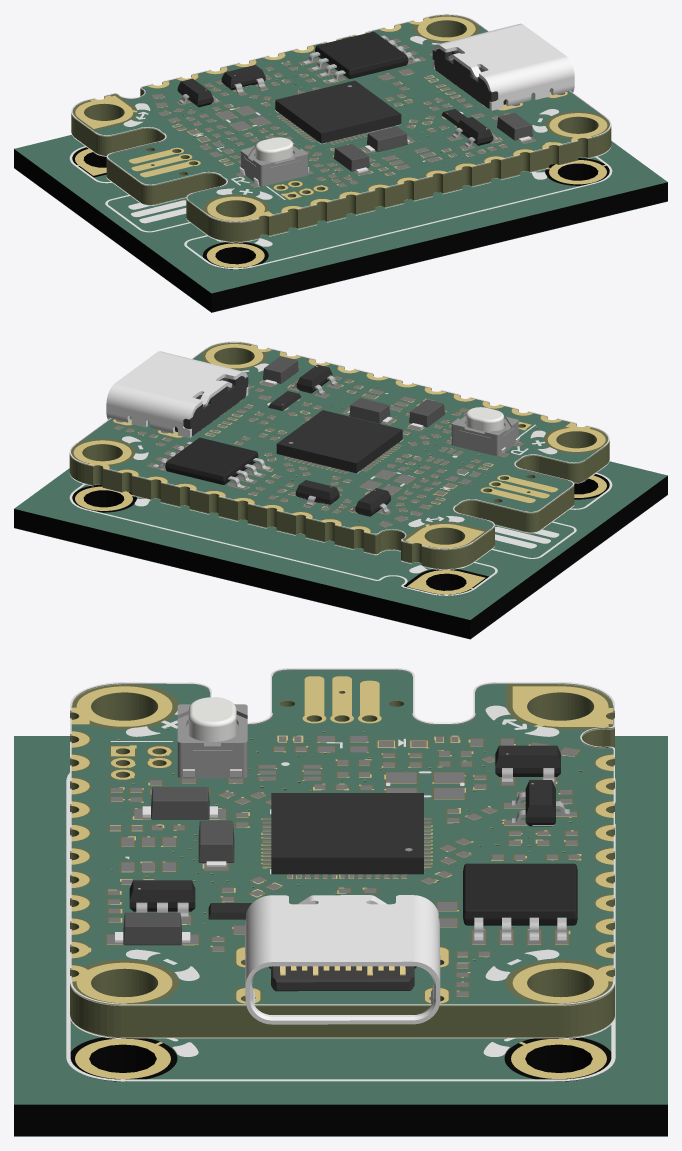
The picture shows the model from 3 angles, top to bottom: view 1: azimuth 30°, elevation 25°; view 2: azimuth 150°, elevation 25°; view 3: azimuth 270°, elevation 25°; orthographic projection. The views are drawn at different scales.
Visible parts, largest first — view 1: Face.002, TYPE-C-31-M-12:1, Face.009, Compound.002, Compound.003, Face, Face.001, Face.012, Face.006, Face.008, Face.011, Face.007; view 2: Face.002, TYPE-C-31-M-12:1, Face.009, Compound.002, Compound.003, Face, Face.001, Face.012, Face.006, Face.008, Face.011, Face.007; view 3: Face.002, Face.009, TYPE-C-31-M-12:1, Compound.002, Compound.003, Face, Face.001, Face.006, Face.012, Face.008.
Boxes of the visible parts, left/top/right/bottom form: Face.002: left=94, top=22, right=600, bottom=214; TYPE-C-31-M-12:1: left=177, top=23, right=574, bottom=186; Face.009: left=14, top=135, right=667, bottom=293; Compound.002: left=71, top=15, right=611, bottom=241; Compound.003: left=14, top=147, right=667, bottom=312; Face: left=73, top=15, right=609, bottom=222; Face.001: left=71, top=14, right=610, bottom=222; Face.012: left=69, top=146, right=612, bottom=269; Face.006: left=71, top=14, right=611, bottom=221; Face.008: left=75, top=149, right=606, bottom=267; Face.011: left=14, top=168, right=667, bottom=312; Face.007: left=71, top=133, right=611, bottom=242; Face.002: left=79, top=350, right=597, bottom=535; TYPE-C-31-M-12:1: left=106, top=351, right=519, bottom=516; Face.009: left=14, top=461, right=667, bottom=619; Compound.002: left=69, top=343, right=609, bottom=568; Compound.003: left=14, top=474, right=667, bottom=639; Face: left=71, top=342, right=607, bottom=549; Face.001: left=69, top=342, right=609, bottom=549; Face.012: left=69, top=473, right=612, bottom=595; Face.006: left=69, top=341, right=609, bottom=549; Face.008: left=75, top=474, right=606, bottom=594; Face.011: left=14, top=495, right=667, bottom=639; Face.007: left=69, top=460, right=609, bottom=569; Face.002: left=71, top=670, right=613, bottom=1005; Face.009: left=14, top=736, right=667, bottom=1104; TYPE-C-31-M-12:1: left=115, top=697, right=577, bottom=1024; Compound.002: left=70, top=676, right=614, bottom=1037; Compound.003: left=14, top=1036, right=667, bottom=1136; Face: left=70, top=676, right=614, bottom=1005; Face.001: left=70, top=669, right=614, bottom=1005; Face.006: left=70, top=668, right=614, bottom=1004; Face.012: left=66, top=773, right=615, bottom=1081; Face.008: left=75, top=1039, right=606, bottom=1081.
Size of the model in its own units: 40 by 8.05 by 30.
